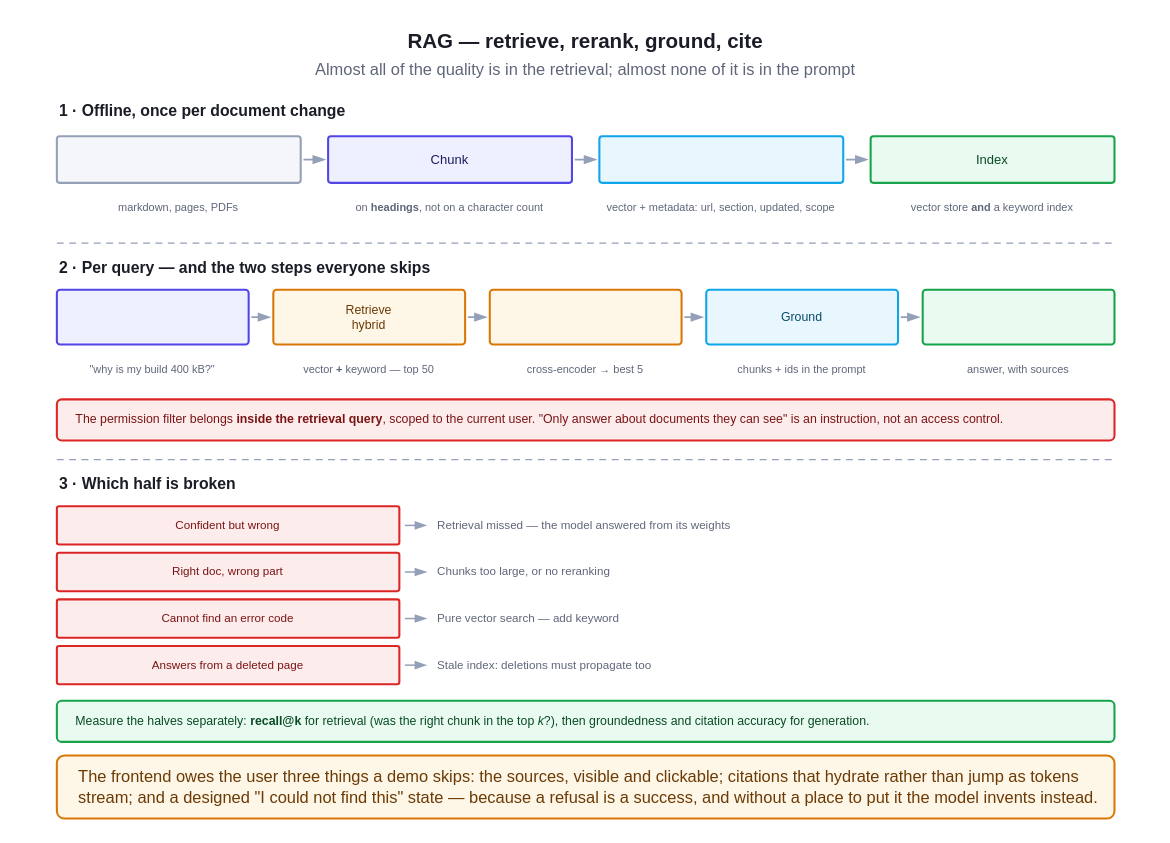
This 1170x843 diagram has some shape labels left out. The shapes that lost their labels are listed below. From the top down, each one's centre as x and y in pixels, then its label:
pixel 178 159: Source docs
pixel 721 159: Embed
pixel 152 316: Question
pixel 585 316: Rerank
pixel 1018 316: Stream + cite
